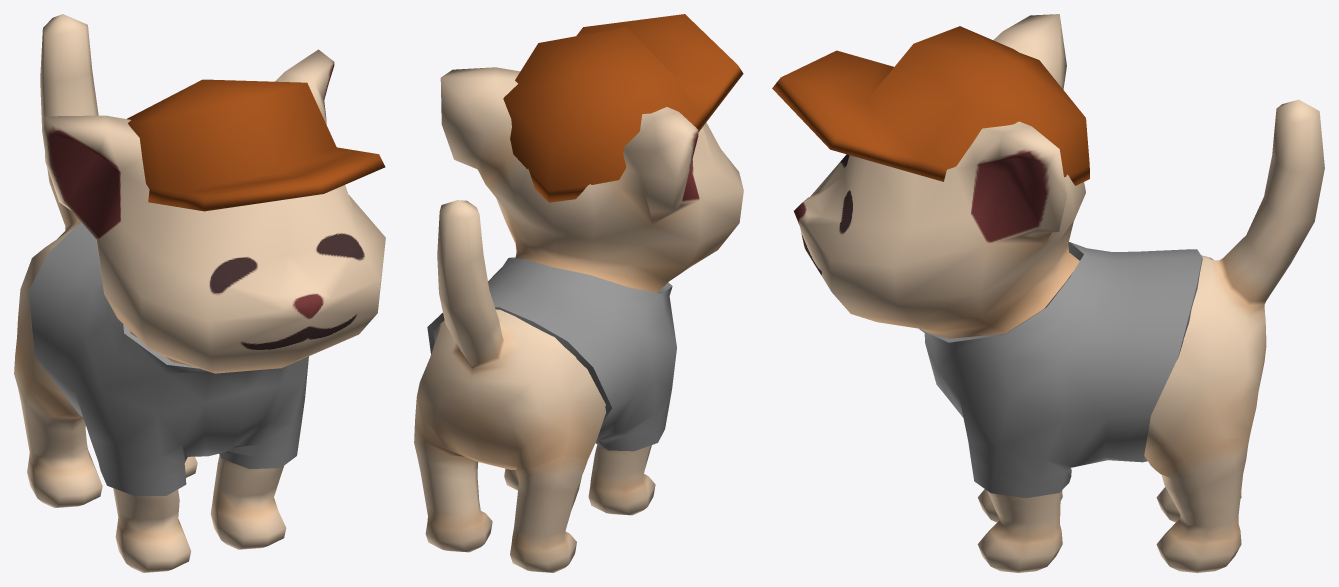
Rendered from Leader Cat01.fbx.
3 renders of one model, left to right at view 1: azimuth 30°, elevation 25°; view 2: azimuth 150°, elevation 25°; view 3: azimuth 270°, elevation 25°, orthographic. The views are drawn at different scales.
Parts seen in each view (by area): view 1: Cat_Base, tshirt001, Org_Cat_Hat; view 2: Cat_Base, Org_Cat_Hat, tshirt001; view 3: Cat_Base, tshirt001, Org_Cat_Hat.
Boxes of the visible parts, x1,y1,x2,y2 form: Cat_Base: [14, 14, 385, 572]; tshirt001: [29, 223, 308, 495]; Org_Cat_Hat: [127, 79, 385, 211]; Cat_Base: [414, 67, 743, 572]; Org_Cat_Hat: [503, 14, 743, 202]; tshirt001: [427, 257, 676, 451]; Cat_Base: [794, 14, 1324, 572]; tshirt001: [919, 242, 1202, 498]; Org_Cat_Hat: [772, 26, 1089, 185].
Bounding box in the file's own units: 1.75 × 2.95 × 2.91.
Materials: 3 (1 with a texture image).
